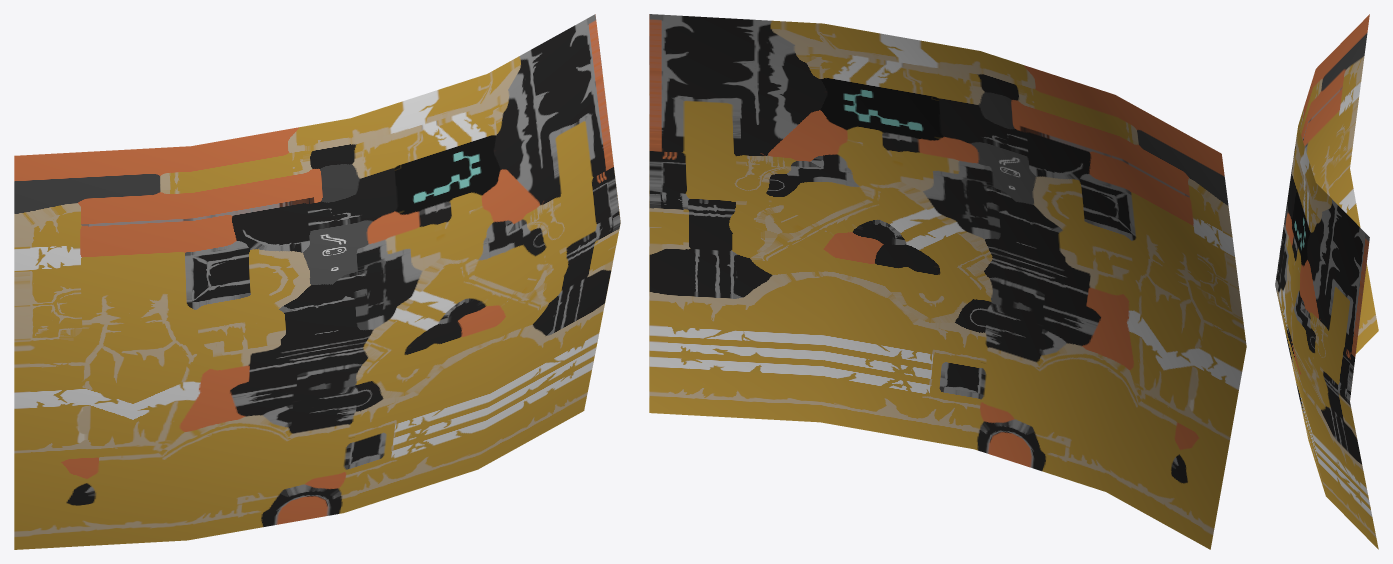
The model's file is xiongban.FBX.
The picture shows the model from 3 angles, left to right: view 1: azimuth 30°, elevation 25°; view 2: azimuth 150°, elevation 25°; view 3: azimuth 270°, elevation 25°; orthographic projection. The views are drawn at different scales.
Visible parts, largest first — view 1: xiongban; view 2: xiongban; view 3: xiongban.
Part boxes in pixels (x1,y1,x2,y2): xiongban: (14,14,620,549); xiongban: (649,14,1246,549); xiongban: (1275,14,1378,549).
Size of the model in its own units: 15.37 by 9.67 by 2.89.
